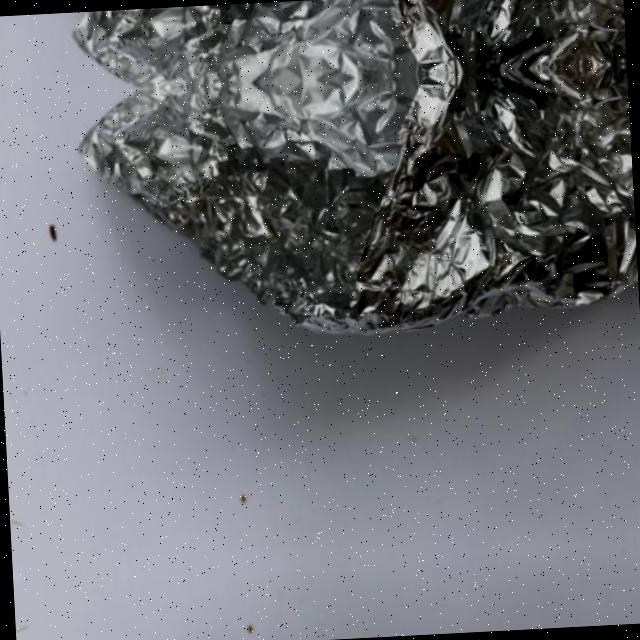Metal: (61, 62, 640, 357), (57, 0, 627, 92)
